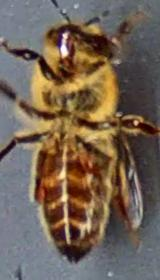varroa_mite: (30, 168, 48, 204), (77, 146, 96, 179)
